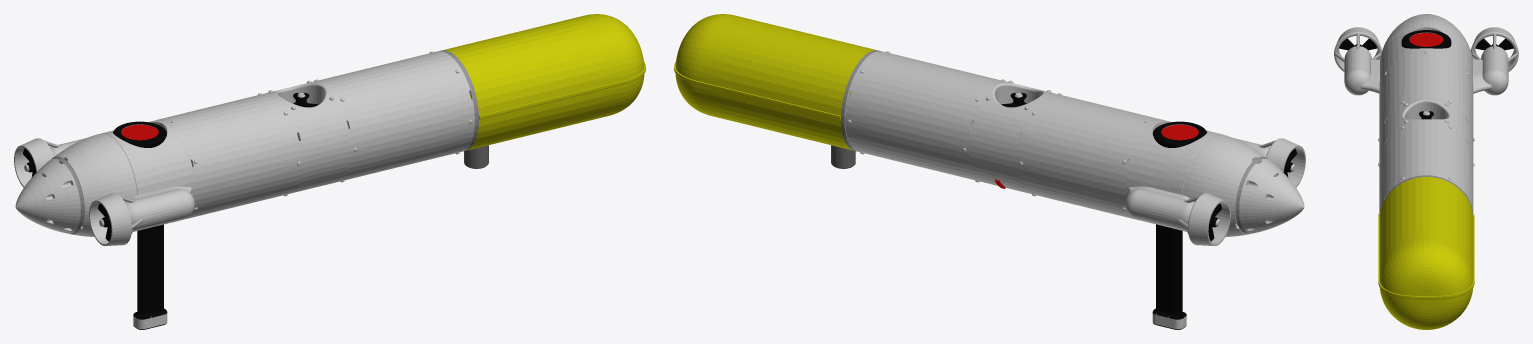
The model's file is sparus2.dae.
3 views of the same model, side by side, from view 1: azimuth 30°, elevation 25°; view 2: azimuth 150°, elevation 25°; view 3: azimuth 270°, elevation 25° (orthographic). The views are drawn at different scales.
Visible parts, largest first — view 1: mesh; view 2: mesh; view 3: mesh.
Boxes of the visible parts, x1,y1,x2,y2 form: mesh: [14, 14, 645, 329]; mesh: [674, 14, 1305, 329]; mesh: [1334, 14, 1518, 329].
Size of the model in its own units: 1.59 by 0.4524 by 0.4861.
